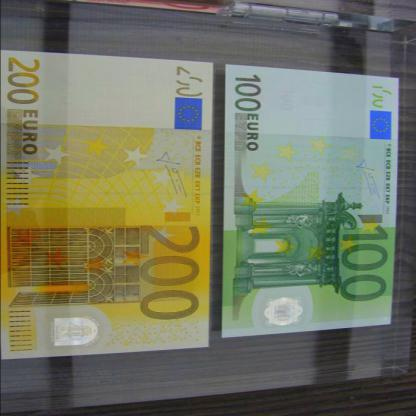euro_banknote: (174, 116, 416, 290)
